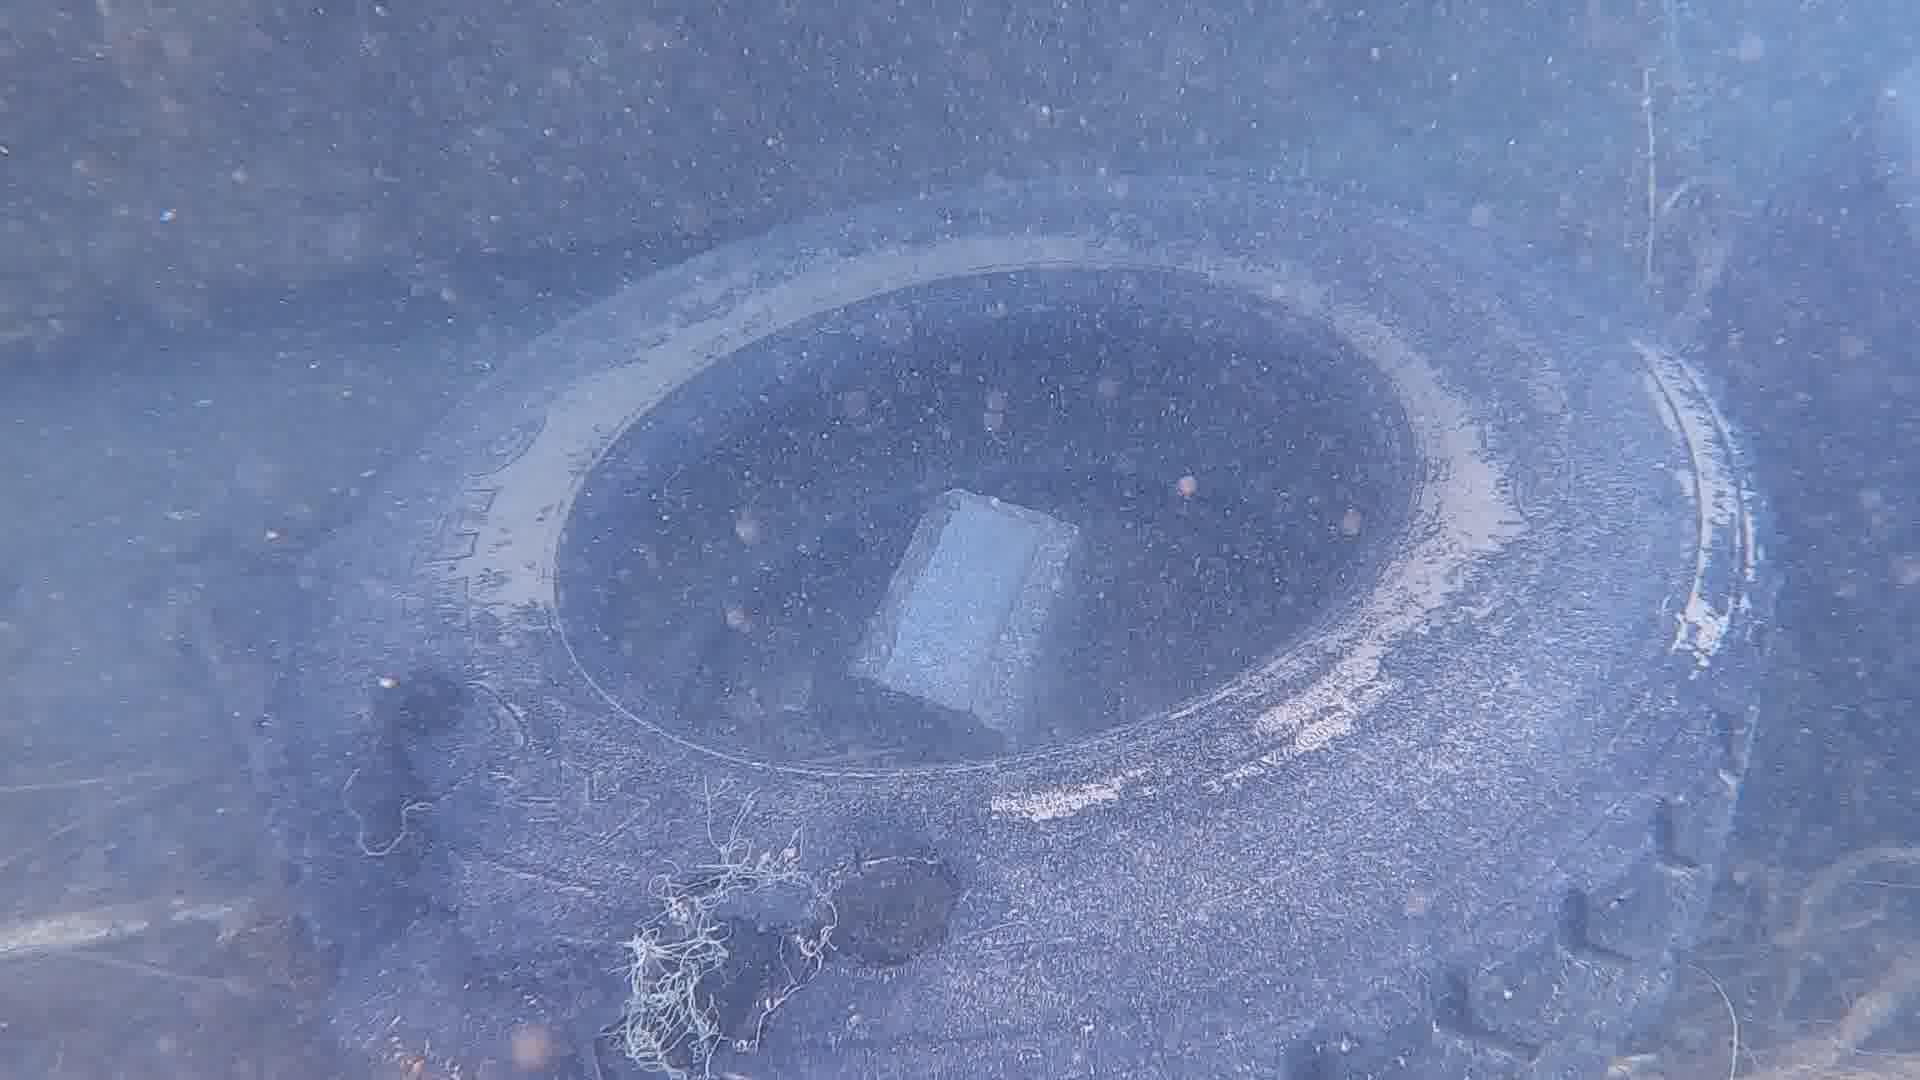tire: (291, 175, 1783, 1080)
